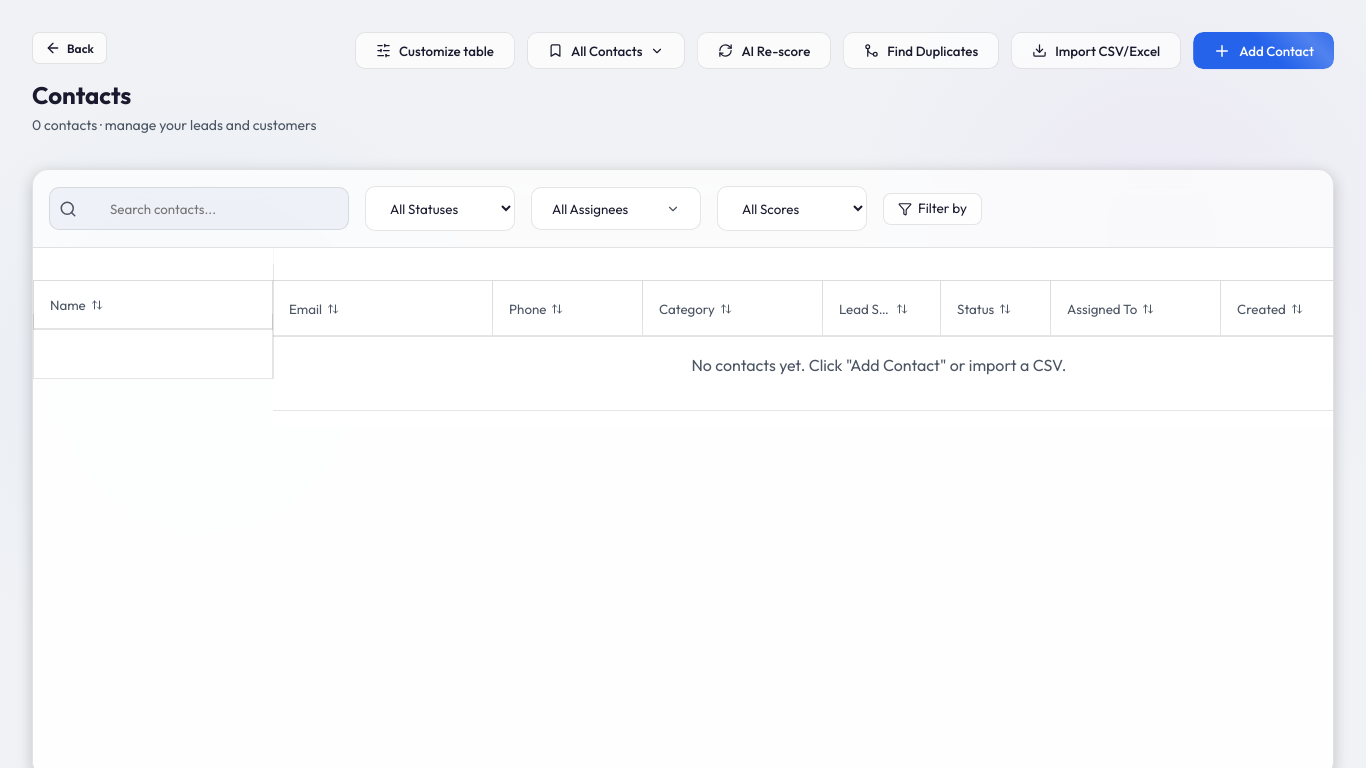
Contacts.jsx — duplicate group UI (#592) › renders Merge AND Dismiss buttons on every duplicate group
The width and height of the screenshot is (1366, 768).
Click the button "Find Duplicates": (921,51) [843,32,999,69]
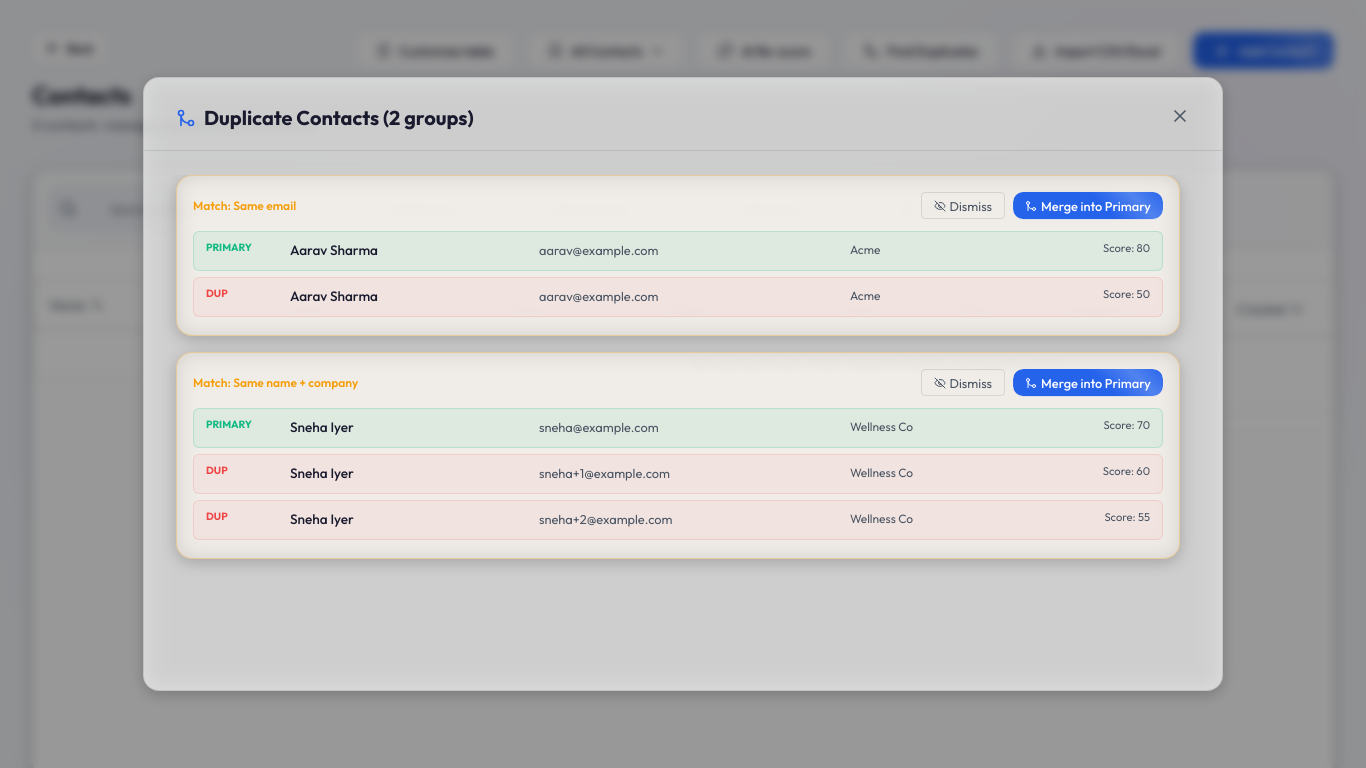
Result: the number of buttons "Merge into Primary" is 2 at [1013,192,1163,219]; [1013,369,1163,396]
Result: the number of buttons named "Dismiss duplicate group" is 2 at [920,192,1005,219]; [920,369,1005,396]
